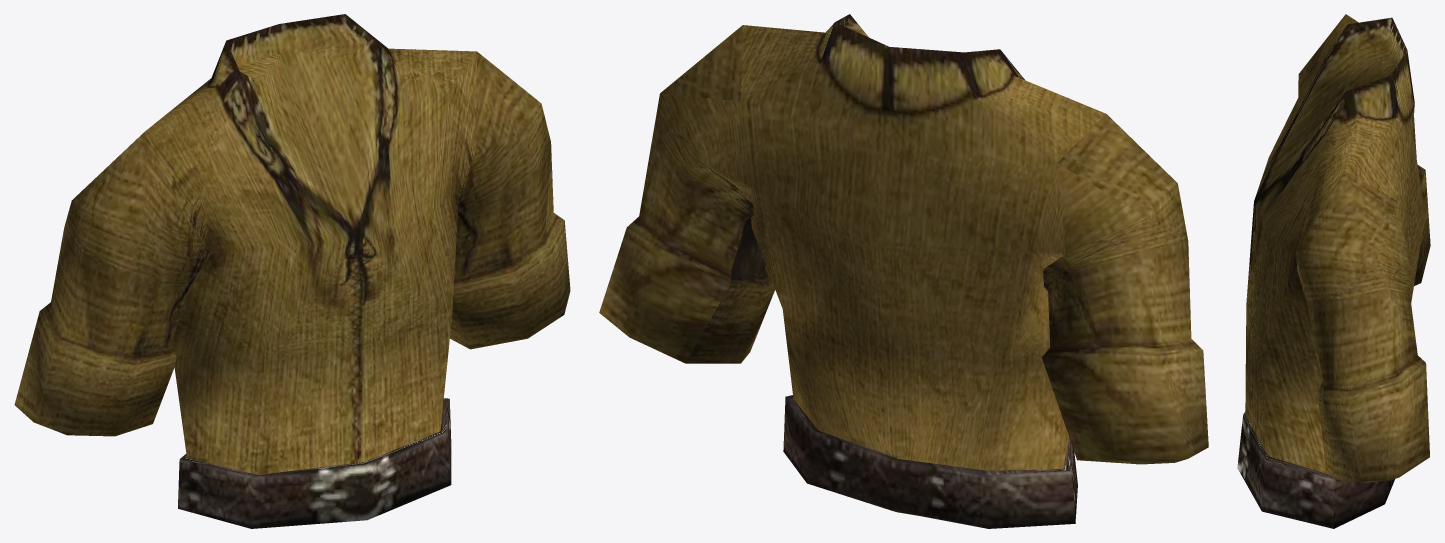
File: STATIC_GS_KOSZULA_ZOLTA.glb
3 renders of one model, left to right at view 1: azimuth 30°, elevation 25°; view 2: azimuth 150°, elevation 25°; view 3: azimuth 270°, elevation 25°, orthographic. The views are drawn at different scales.
Parts seen in each view (by area): view 1: Mesh; view 2: Mesh; view 3: Mesh.
Boxes of the visible parts, bbox=[...] form: Mesh: bbox=[14, 14, 570, 528]; Mesh: bbox=[599, 14, 1208, 528]; Mesh: bbox=[1237, 14, 1430, 528].
Size of the model in its own units: 0.6861 by 0.5328 by 0.221.
2 materials, 2 textured.
